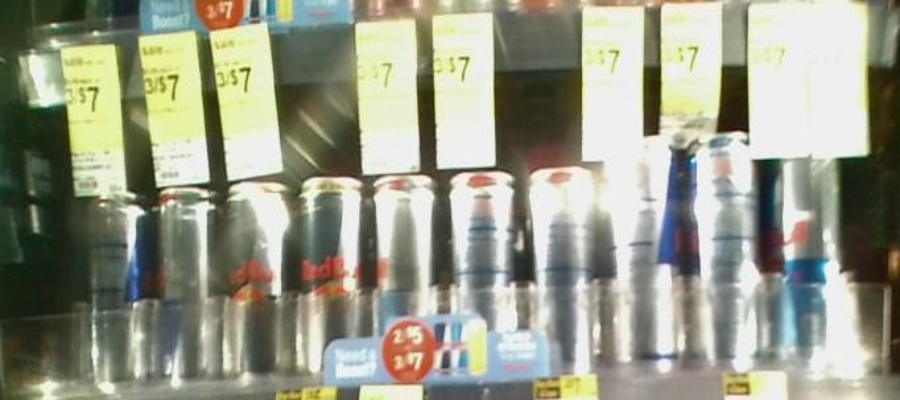bottle: (771, 119, 850, 359), (297, 160, 375, 389), (615, 128, 688, 365), (691, 125, 763, 362), (446, 164, 524, 378), (222, 172, 293, 386), (529, 163, 596, 379), (375, 161, 435, 395), (153, 179, 219, 389), (80, 188, 146, 389)
